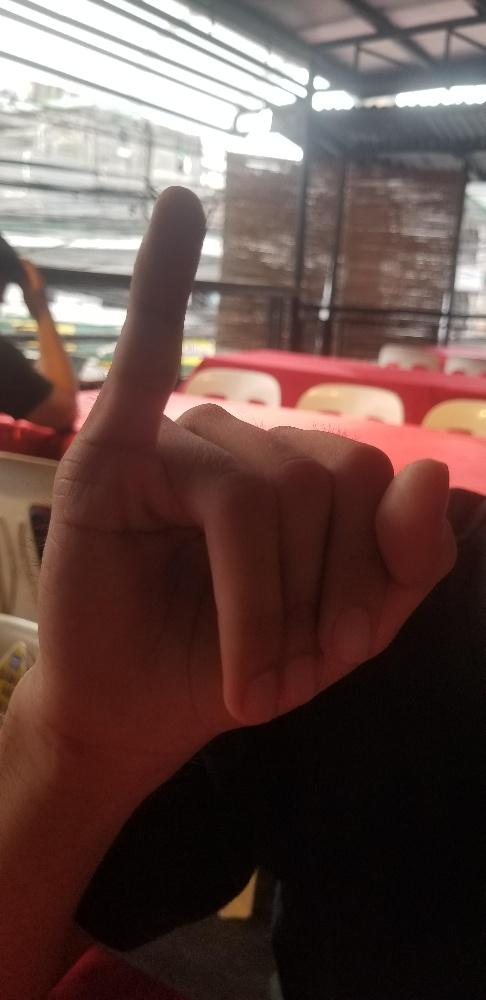i: (32, 176, 461, 749)
